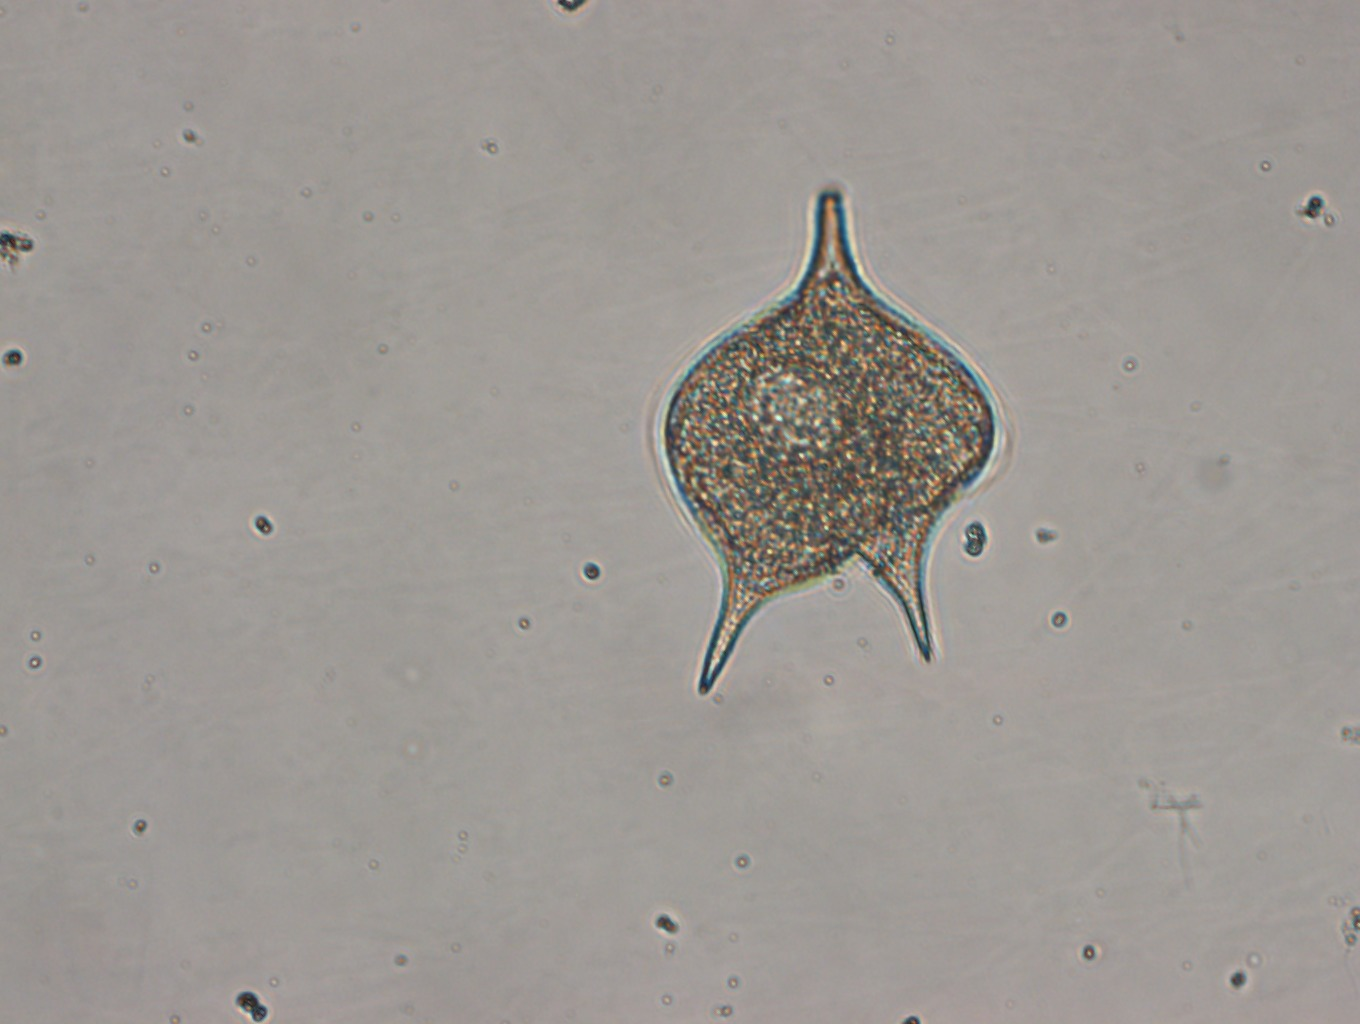protoperidinium: (649, 181, 1005, 699)
